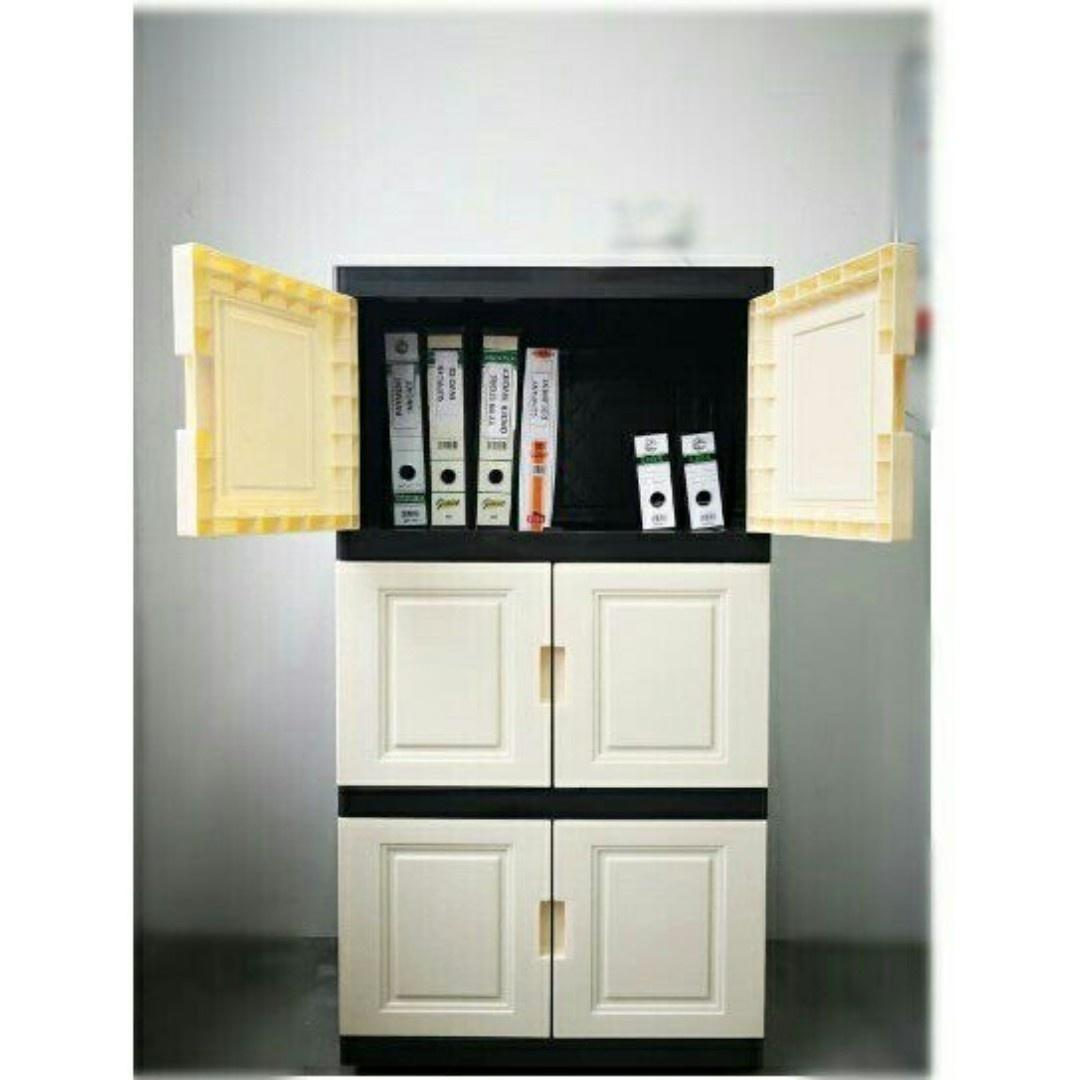cabinet_door: (337, 825, 550, 1037), (557, 827, 771, 1037), (558, 573, 772, 782), (747, 270, 908, 533), (348, 574, 554, 779), (748, 273, 902, 540), (189, 276, 350, 523)
handle: (529, 639, 553, 707), (551, 640, 573, 706), (531, 899, 553, 963), (552, 900, 572, 961)
